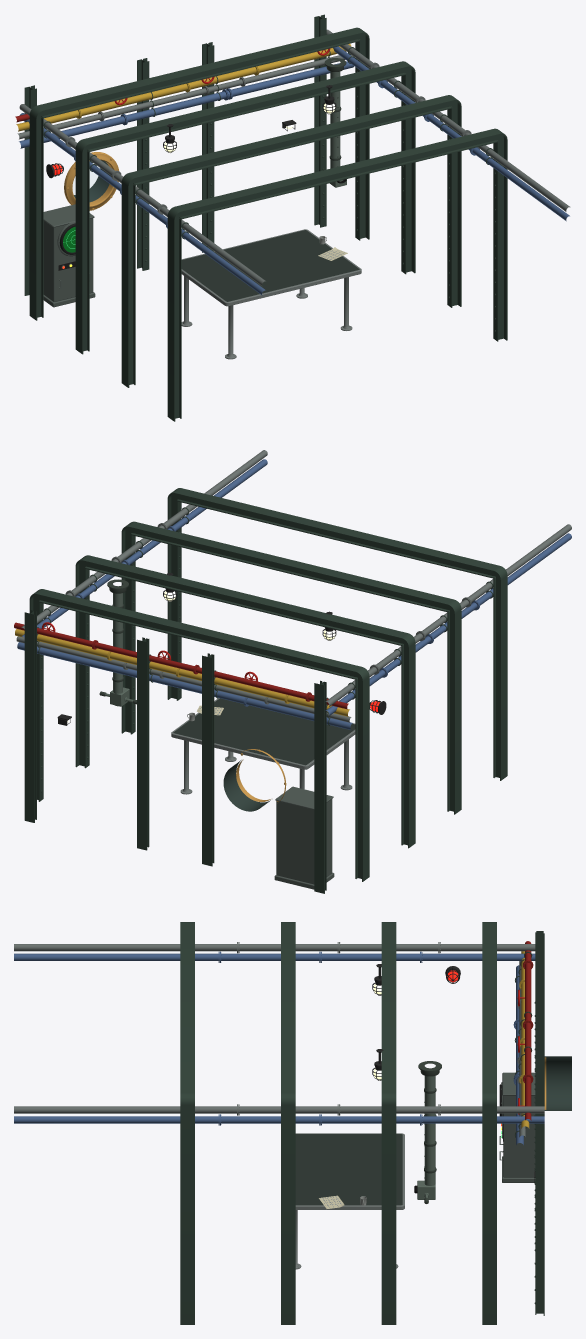
The model's file is submarine.glb.
3 renders of one model, top to bottom at view 1: azimuth 30°, elevation 25°; view 2: azimuth 150°, elevation 25°; view 3: azimuth 270°, elevation 25°, orthographic. The views are drawn at different scales.
Visible parts, largest first — view 1: Spanten, Tischplatte, Rohre_Blau, Rohre_Grau, Sonar_Gehaeuse, Rohre_Gelb, Tischgestell, Bullauge, Periskop_Rohr; view 2: Spanten, Tischplatte, Rohre_Blau, Rohre_Grau, Sonar_Gehaeuse, Rohre_Gelb, Rohre_Rot, Tischgestell, Periskop_Rohr, Bullauge_Rohr; view 3: Spanten, Rohre_Blau, Rohre_Grau, Tischplatte, Sonar_Gehaeuse, Bullauge_Rohr, Periskop_Rohr, Rohre_Rot, Tischgestell, Rohre_Gelb.
Part boxes in pixels (box(x1,y1,x2,y2)): Spanten: box(24, 14, 507, 421); Tischplatte: box(181, 230, 359, 301); Rohre_Blau: box(19, 46, 569, 295); Rohre_Grau: box(17, 29, 570, 286); Sonar_Gehaeuse: box(43, 204, 95, 307); Rohre_Gelb: box(16, 43, 351, 131); Tischgestell: box(181, 229, 361, 359); Bullauge: box(64, 152, 118, 210); Periskop_Rohr: box(330, 63, 346, 187); Spanten: box(24, 488, 507, 893); Tischplatte: box(173, 698, 355, 765); Rohre_Blau: box(17, 459, 571, 729); Rohre_Grau: box(16, 450, 571, 722); Sonar_Gehaeuse: box(274, 786, 334, 889); Rohre_Gelb: box(15, 629, 349, 716); Rohre_Rot: box(14, 622, 348, 709); Tischgestell: box(171, 698, 355, 794); Periskop_Rohr: box(105, 585, 133, 706); Bullauge_Rohr: box(223, 760, 270, 811); Spanten: box(180, 922, 544, 1324); Rohre_Blau: box(14, 951, 544, 1145); Rohre_Grau: box(14, 942, 544, 1137); Tischplatte: box(295, 1134, 402, 1205); Sonar_Gehaeuse: box(502, 1072, 535, 1182); Bullauge_Rohr: box(544, 1056, 571, 1110); Periskop_Rohr: box(417, 1068, 435, 1199); Rohre_Rot: box(523, 941, 533, 1120); Tischgestell: box(295, 1133, 404, 1269); Rohre_Gelb: box(519, 951, 529, 1128).
Size of the model in its own units: 4.6 by 2.75 by 6.1.
